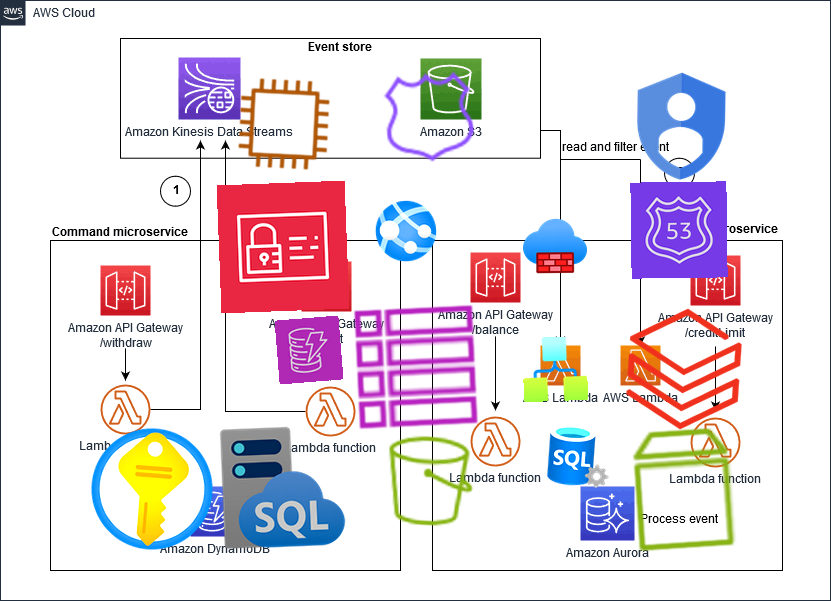aws_amazon_dynamodb: (274, 315, 344, 385)
aws_amazon_route_53: (630, 181, 728, 279)
aws_dynamodb_table: (349, 300, 483, 434)
aws_ec2_instance: (233, 73, 335, 175)
aws_elastic_block_store_volume: (615, 420, 753, 558)
aws_identity_and_access_management: (216, 180, 350, 314)
aws_route_53_hosted_zone: (378, 65, 482, 169)
aws_simple_storage_service_bucket: (379, 430, 481, 532)
azure_app_services: (372, 197, 440, 265)
azure_databricks: (615, 300, 753, 438)
azure_firewalls: (522, 213, 588, 279)
azure_key_vaults: (83, 420, 221, 558)
azure_logic_apps: (521, 335, 589, 403)
azure_sql_managed_instance: (216, 420, 350, 554)
azure_sql_server: (544, 421, 614, 491)
gcp_identity_and_access_management: (615, 60, 747, 192)
